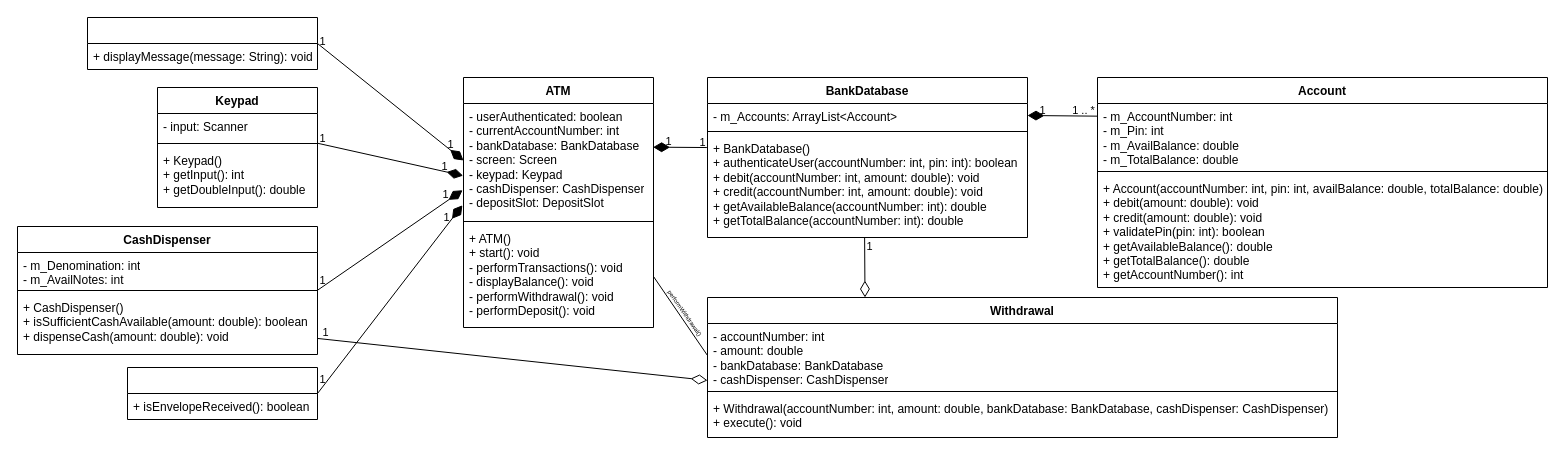
Some shapes in this 1565 by 458 pixel diagram are drawn without their labels. The box of each missing label's shape, as (x1, y1, x2, y2) in pixels:
DepositSlot: (126, 366, 318, 420)
Screen: (86, 16, 318, 70)
